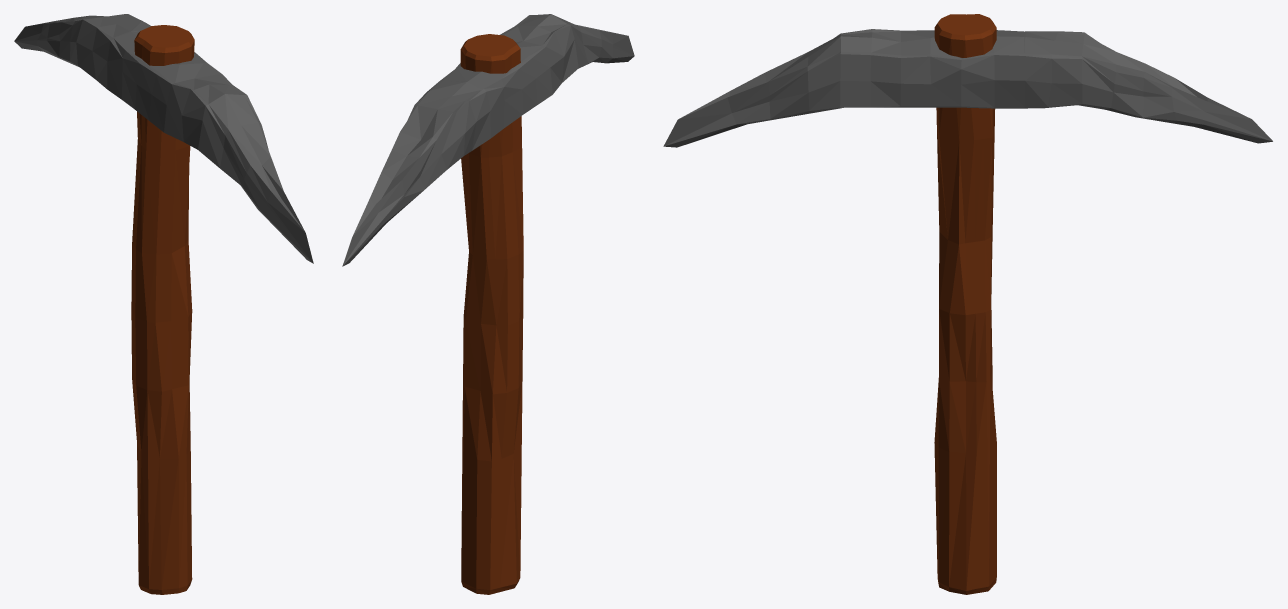
The model's file is Pickaxe.fbx.
3 views of the same model, side by side, from view 1: azimuth 30°, elevation 25°; view 2: azimuth 150°, elevation 25°; view 3: azimuth 270°, elevation 25° (orthographic). The views are drawn at different scales.
Parts seen in each view (by area): view 1: Cylinder; view 2: Cylinder; view 3: Cylinder.
Boxes of the visible parts, left/top/right/bottom form: Cylinder: left=14, top=14, right=313, bottom=594; Cylinder: left=342, top=14, right=634, bottom=594; Cylinder: left=663, top=14, right=1272, bottom=594.
Bounding box in the file's own units: 24.43 × 200 × 198.
